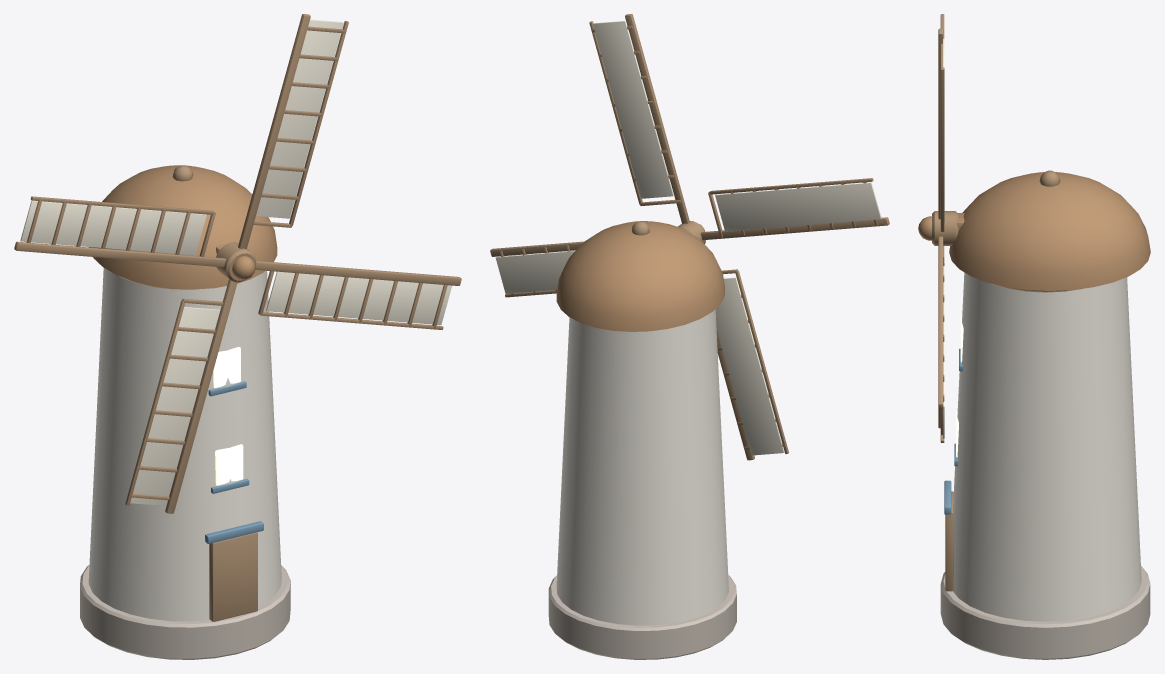
The model's file is bg_windmill.glb.
3 views of the same model, side by side, from view 1: azimuth 30°, elevation 25°; view 2: azimuth 150°, elevation 25°; view 3: azimuth 270°, elevation 25° (orthographic). The views are drawn at different scales.
Visible parts, largest first — view 1: bg_windmill, blades; view 2: bg_windmill, blades; view 3: bg_windmill, blades.
Part boxes in pixels (bbox=[...]): bg_windmill: bbox=[80, 165, 290, 659]; blades: bbox=[14, 14, 461, 513]; bg_windmill: bbox=[548, 221, 736, 659]; blades: bbox=[490, 14, 889, 460]; bg_windmill: bbox=[940, 170, 1150, 659]; blades: bbox=[918, 14, 958, 442].
Size of the model in its own units: 5.85 by 7.83 by 2.66.
